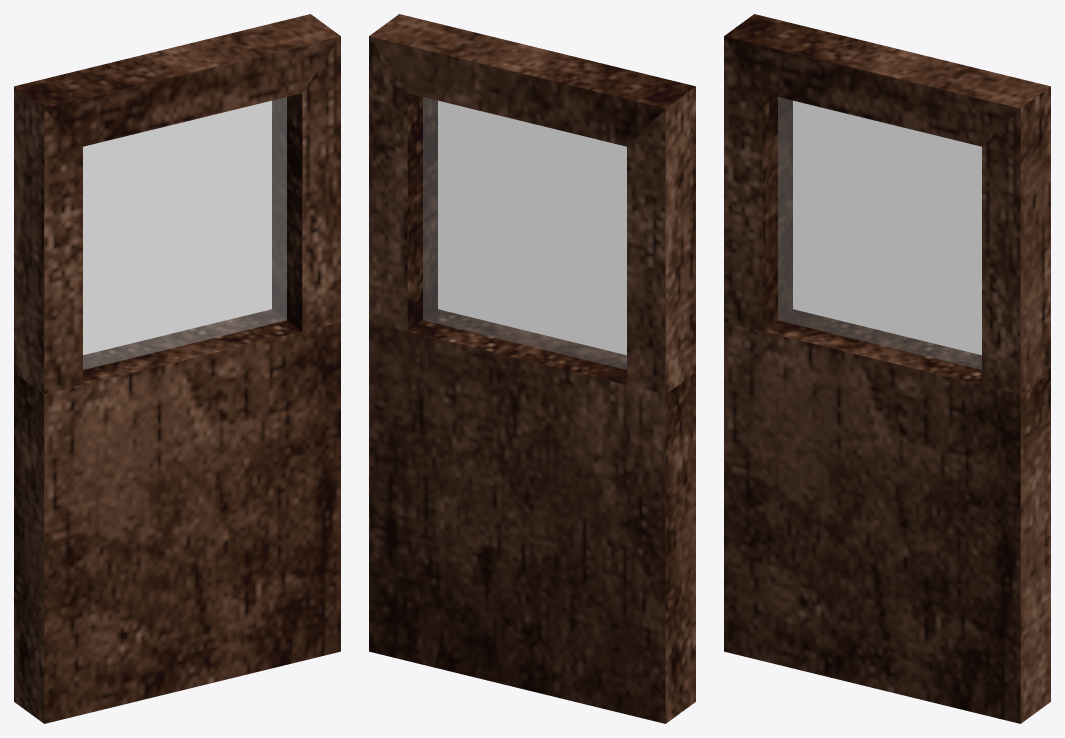
Rendered from Puerta.fbx.
3 renders of one model, left to right at view 1: azimuth 30°, elevation 25°; view 2: azimuth 150°, elevation 25°; view 3: azimuth 330°, elevation 25°, orthographic.
Visible parts, largest first — view 1: Puerta; view 2: Puerta; view 3: Puerta.
Boxes of the visible parts, left/top/right/bottom form: Puerta: left=14, top=14, right=340, bottom=723; Puerta: left=369, top=14, right=695, bottom=723; Puerta: left=724, top=14, right=1050, bottom=723.
Bounding box in the file's own units: 0.96 × 1.9 × 0.17.
